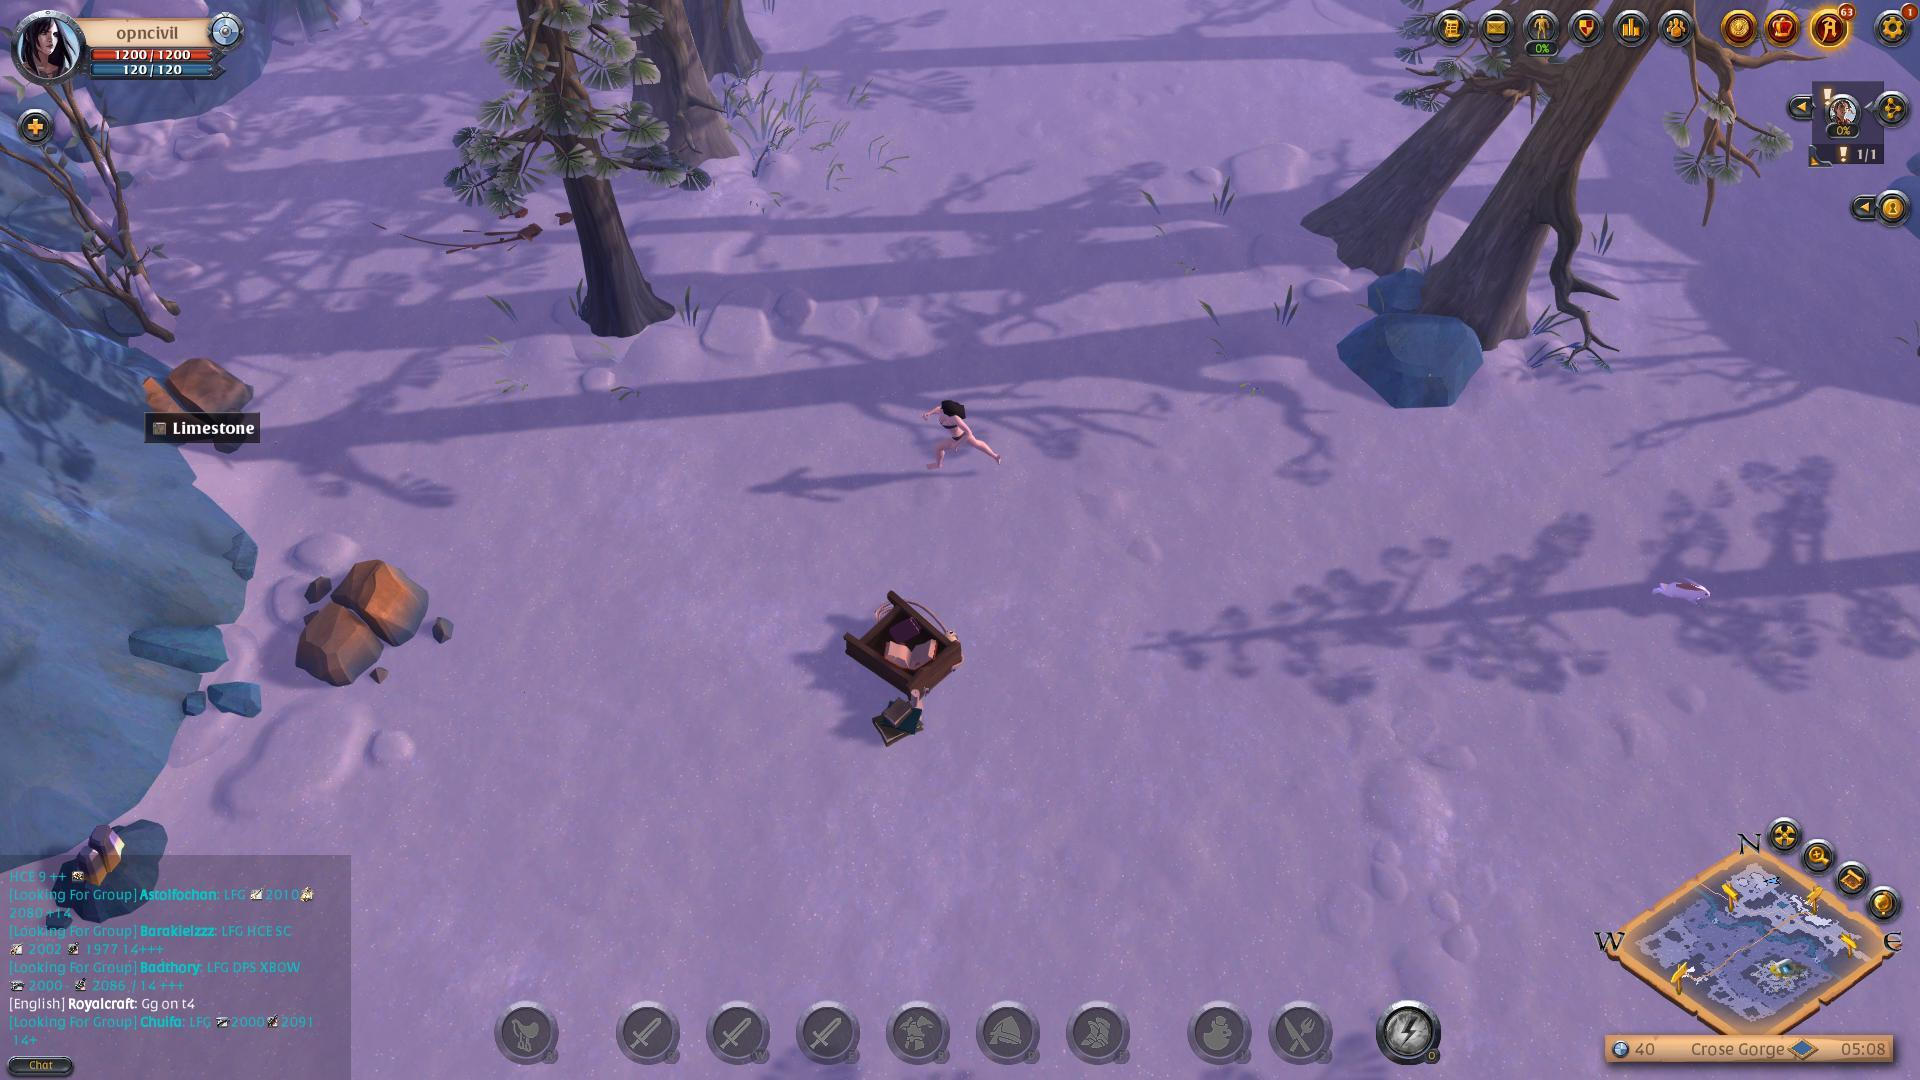copper_ore: (285, 546, 448, 699), (57, 811, 178, 923)
limestone: (144, 345, 286, 452)
